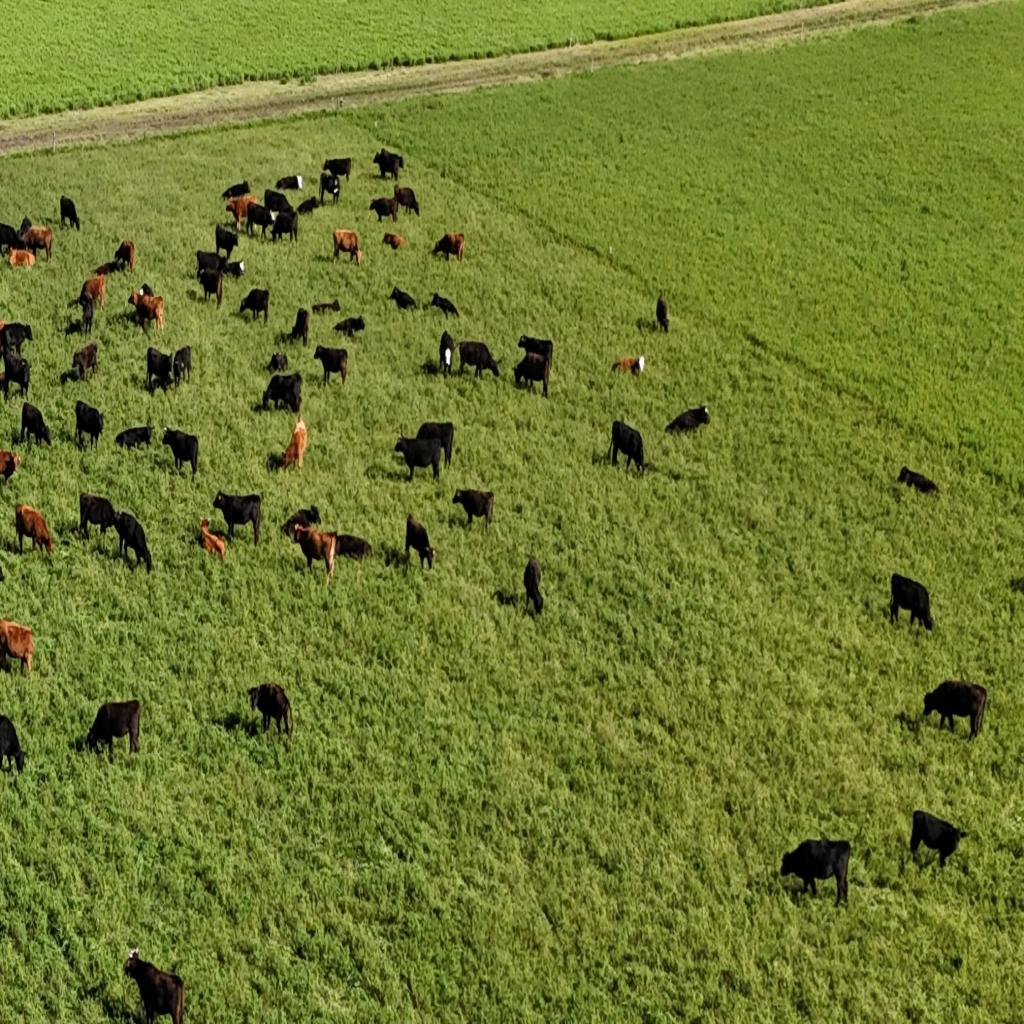cow: (778, 838, 848, 908), (124, 948, 185, 1024), (922, 679, 987, 741), (910, 810, 968, 869), (86, 700, 141, 760), (294, 524, 338, 585), (212, 489, 262, 542), (113, 509, 153, 573), (889, 572, 932, 631), (249, 682, 293, 738), (395, 435, 443, 483), (14, 504, 53, 562), (606, 417, 646, 473), (0, 619, 35, 679), (79, 492, 119, 543), (162, 427, 200, 478), (453, 487, 495, 533), (416, 420, 454, 469), (405, 513, 435, 572), (0, 714, 29, 775), (262, 372, 303, 414), (128, 289, 164, 336), (457, 340, 499, 380), (280, 414, 308, 472), (74, 400, 105, 450), (20, 402, 52, 448), (665, 404, 710, 436), (314, 344, 348, 386), (2, 353, 32, 400), (281, 506, 321, 541), (518, 334, 552, 374), (146, 347, 174, 394), (78, 273, 106, 320), (227, 196, 261, 234), (897, 466, 940, 496), (20, 225, 52, 264), (523, 555, 543, 617), (1, 321, 33, 359), (198, 517, 225, 562), (238, 288, 270, 324), (513, 354, 543, 392), (246, 202, 275, 240), (198, 266, 224, 308), (72, 344, 99, 383), (333, 228, 361, 265), (373, 148, 403, 182), (334, 534, 373, 560), (270, 210, 298, 246), (433, 232, 464, 264), (0, 221, 25, 259), (195, 250, 226, 280), (114, 426, 151, 450), (215, 223, 239, 260), (369, 196, 399, 224), (322, 156, 352, 184), (264, 189, 294, 217), (288, 308, 310, 345), (332, 315, 365, 339), (320, 169, 342, 205), (439, 330, 456, 376), (388, 285, 418, 311), (0, 448, 20, 487), (394, 185, 418, 217), (174, 345, 192, 385), (114, 239, 135, 273), (614, 355, 646, 377), (429, 292, 458, 316), (60, 196, 79, 232), (80, 294, 94, 338), (9, 247, 36, 269), (221, 181, 250, 201), (276, 173, 304, 192), (656, 293, 669, 333), (296, 196, 320, 217), (268, 350, 288, 374), (93, 260, 121, 277), (382, 232, 406, 251), (223, 260, 245, 280), (312, 300, 340, 315), (64, 318, 83, 338), (58, 369, 79, 385), (139, 284, 154, 298)
